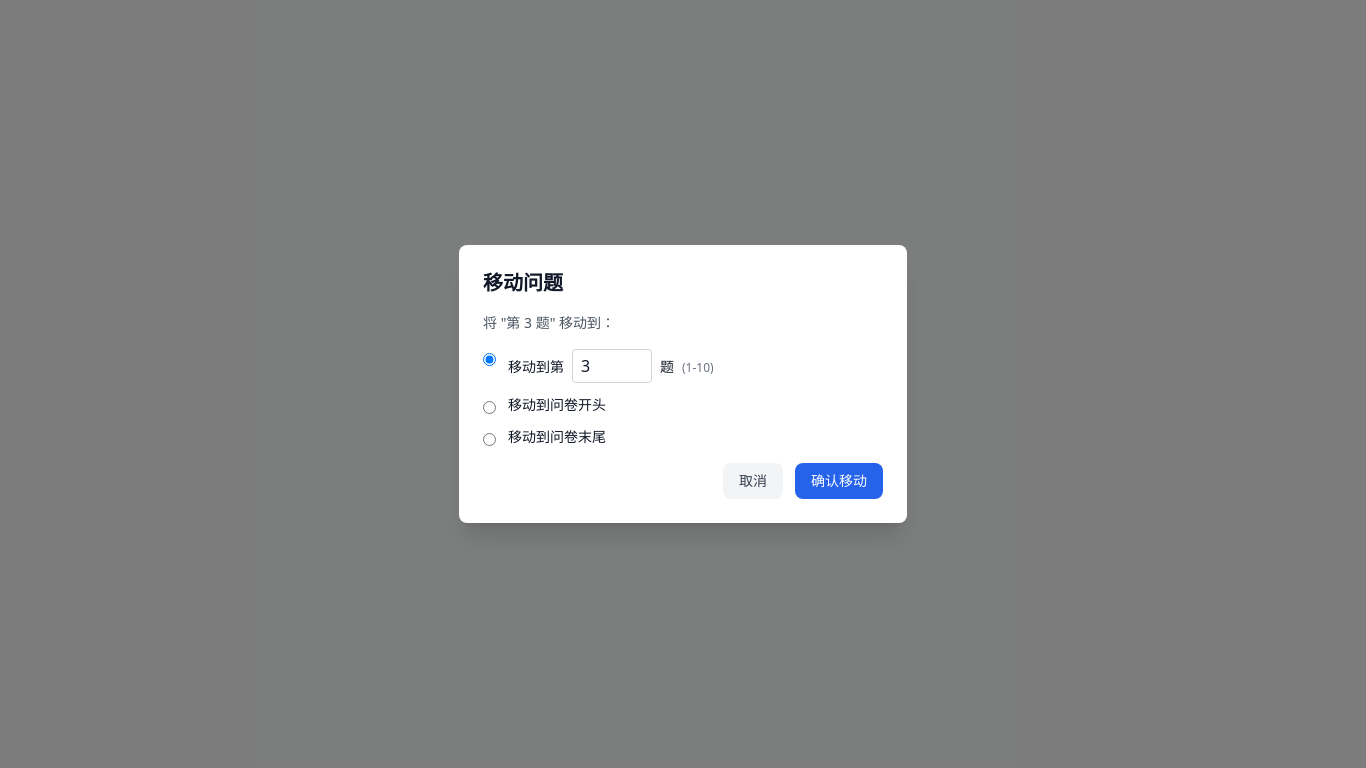
Test: QuestionReorderDialog › Input Validation › should show error for empty input
Clear the number field at (612, 366), box [572, 349, 652, 383]
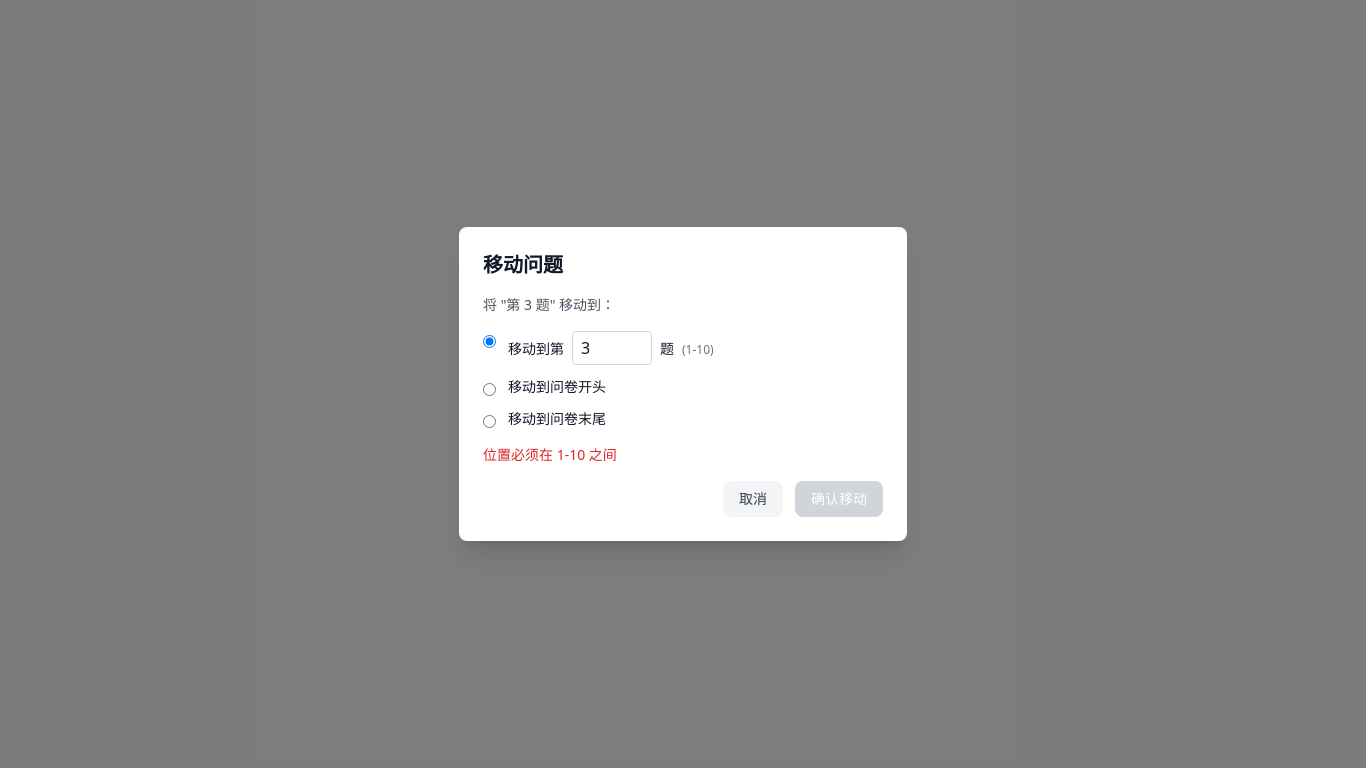
Result: the text "位置必须在 1-10 之间" is shown at [483, 445, 617, 464]
